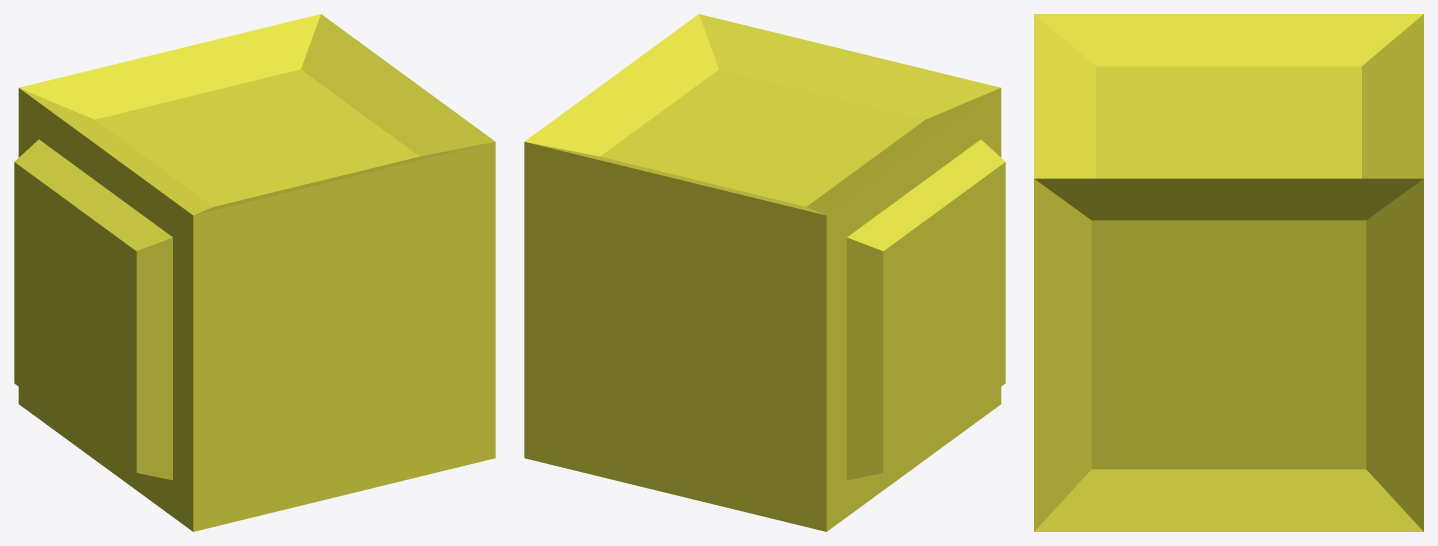
File: crate.gltf
The picture shows the model from 3 angles, left to right: view 1: azimuth 30°, elevation 25°; view 2: azimuth 150°, elevation 25°; view 3: azimuth 270°, elevation 25°; orthographic projection. The views are drawn at different scales.
Parts seen in each view (by area): view 1: Cube; view 2: Cube; view 3: Cube.
Part boxes in pixels (bbox=[...]): Cube: bbox=[14, 14, 495, 531]; Cube: bbox=[524, 14, 1005, 531]; Cube: bbox=[1034, 14, 1423, 531].
Bounding box in the file's own units: 2.2 × 2 × 2.
